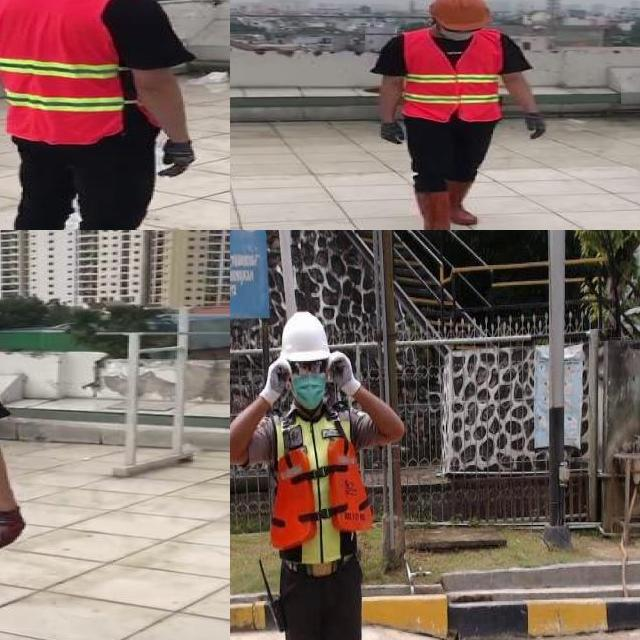boots: (445, 179, 486, 226), (416, 190, 453, 230)
hand_glove: (146, 132, 200, 182), (0, 507, 27, 548), (378, 119, 404, 144), (524, 113, 546, 140)
head_helmet: (278, 313, 332, 366), (429, 0, 491, 31)
person: (230, 304, 439, 640), (0, 0, 208, 230), (366, 0, 553, 230), (0, 238, 52, 640)
vest: (0, 0, 151, 144), (267, 408, 373, 570), (402, 29, 504, 123)
